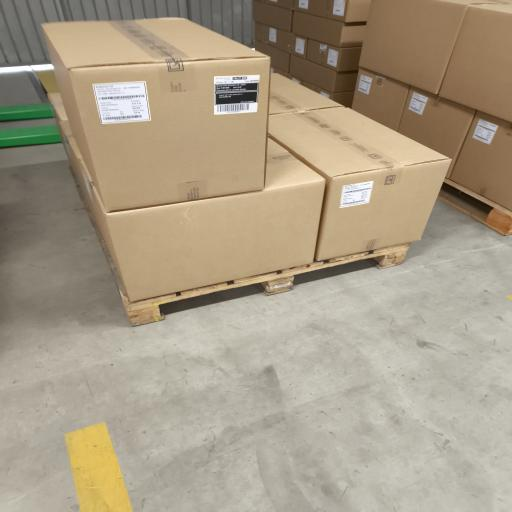pallet: (71, 167, 409, 326), (119, 244, 409, 325), (439, 179, 511, 235), (0, 126, 61, 147)
